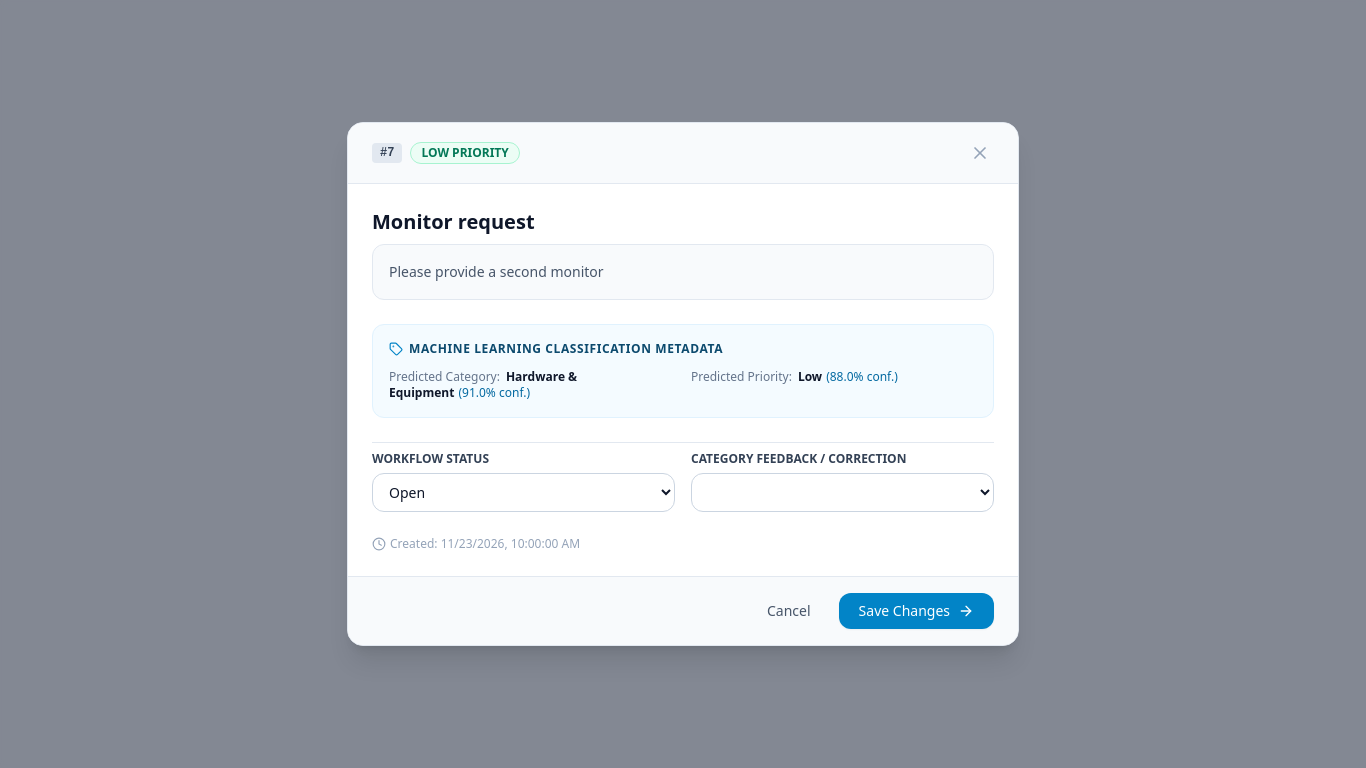
Test: TicketDetailModal › shows the API error message when saving fails
Step 1. Select "Resolved" in the dropdown labelled "Workflow Status" → (524, 493), box top-left (372, 473), bottom-right (675, 512)
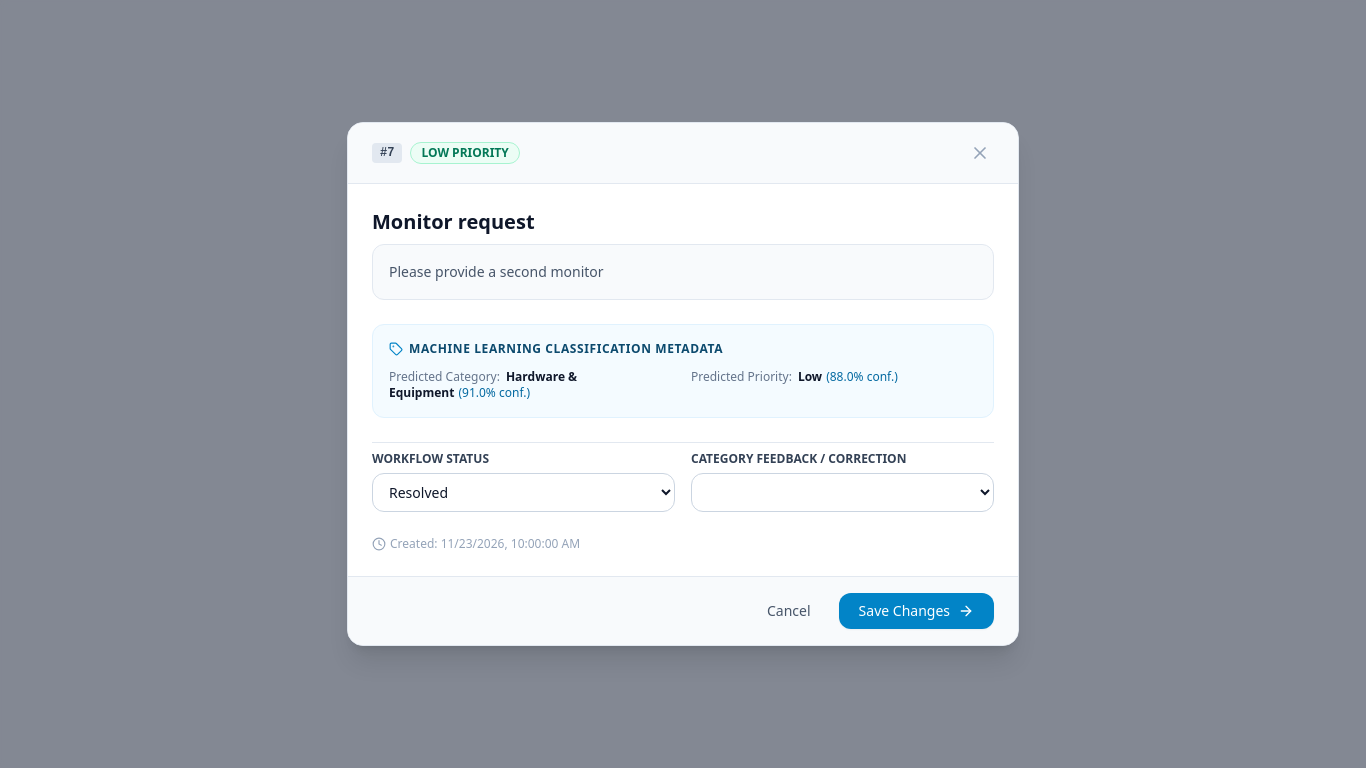
Step 2. Click the button "Save Changes" → (916, 611), box top-left (839, 593), bottom-right (994, 629)
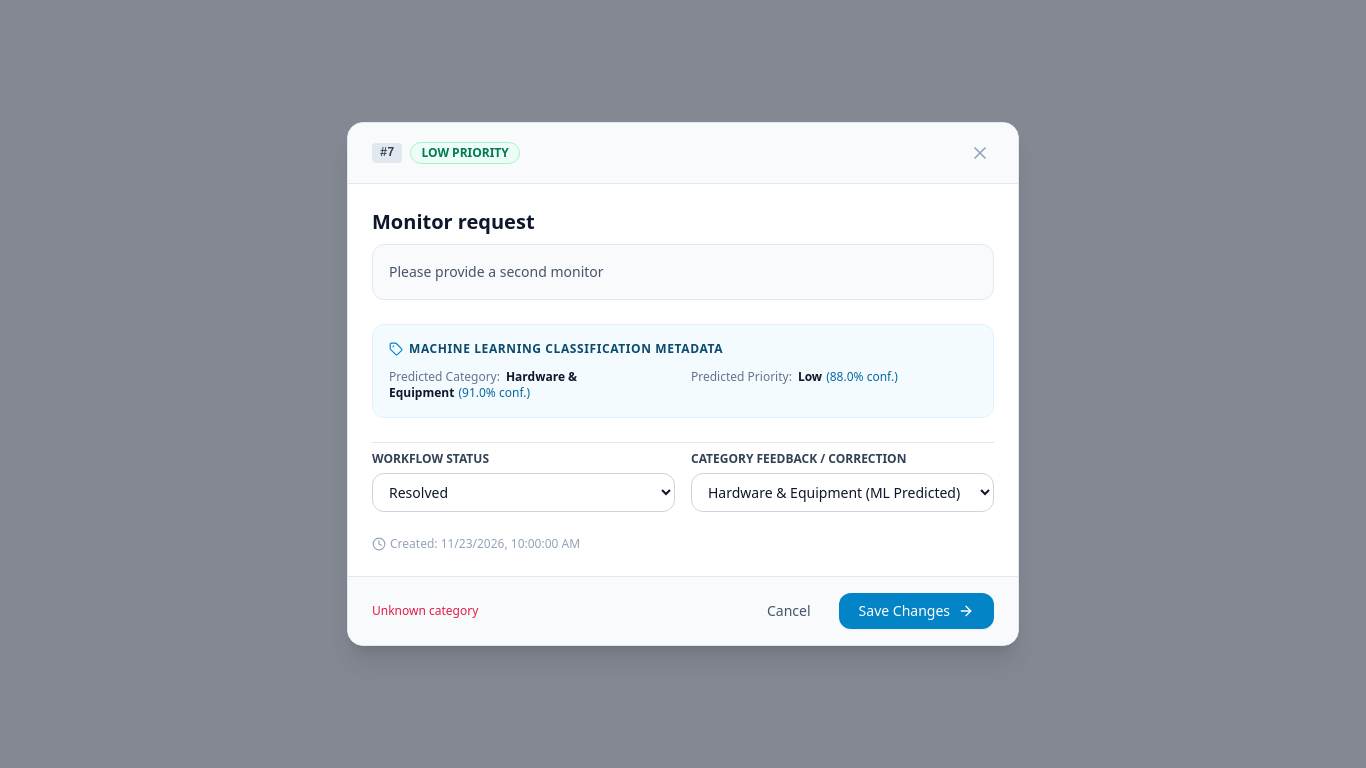
Expected: the message reads "Unknown category", top-left (372, 602), bottom-right (478, 619)
